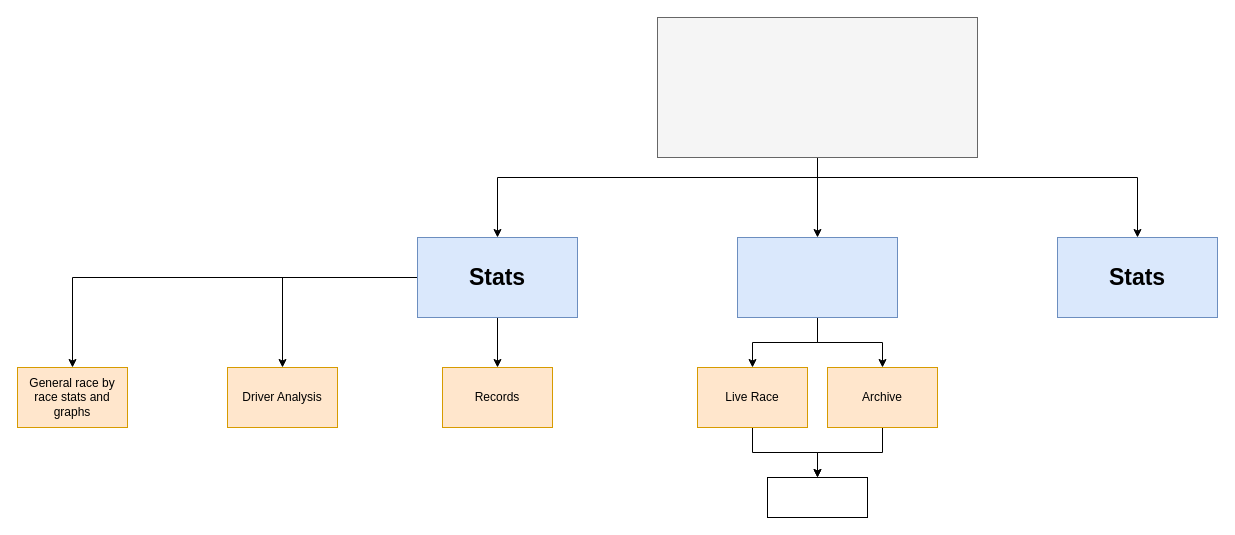
The diagram is 1235 pixels wide and 535 high, and some of its shapes have lost their labels. The centre of each missing label's shape, as x and y in pixels:
"Home" belongs at (x=817, y=87).
"Pit Wall" belongs at (x=817, y=277).
"Pit wall style setup with data" belongs at (x=817, y=497).
